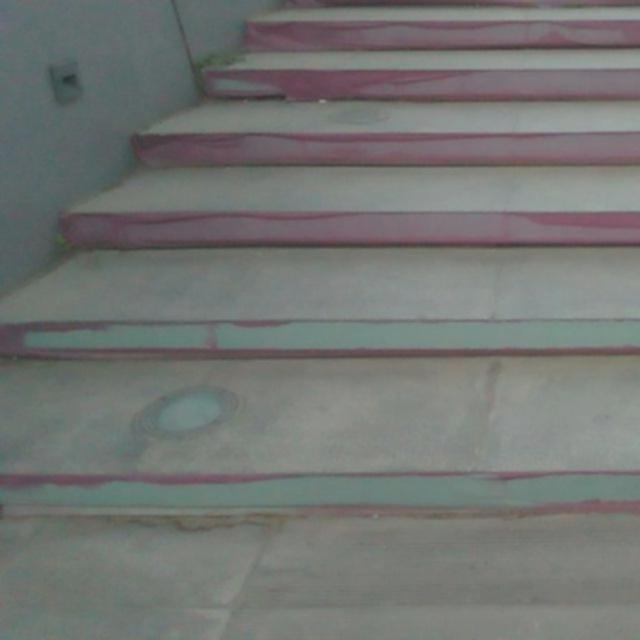stair: (23, 4, 640, 526)
